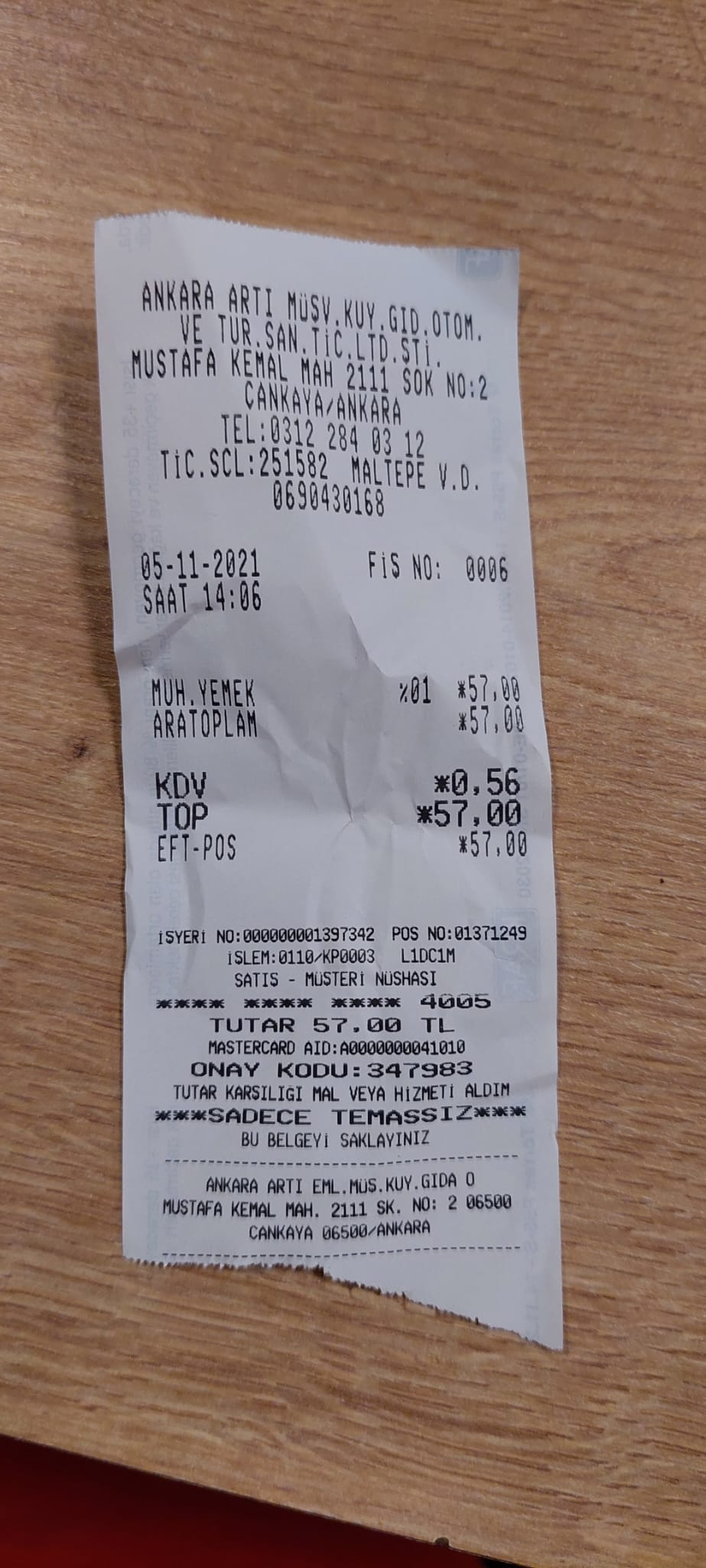date: (133, 543, 269, 585)
price: (431, 796, 527, 830)
workplace: (123, 273, 500, 425)
